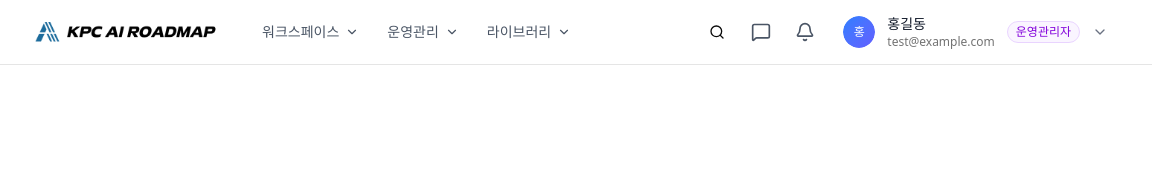
it: Navigation › OPS 관리자 역할 › 라이브러리 드롭다운에 로드맵·PBL 갤러리, 자가진단 템플릿이 표시된다
This screenshot has width=1152, height=170.
Click the button "라이브러리": (529, 32) 475,14 -> 583,50
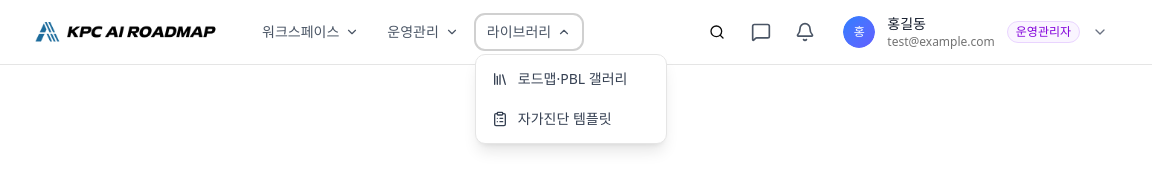
expect the link "로드맵·PBL 갤러리" is shown: met, box 492,69 -> 627,88
expect the link "자가진단 템플릿" is shown: met, box 492,109 -> 612,128
